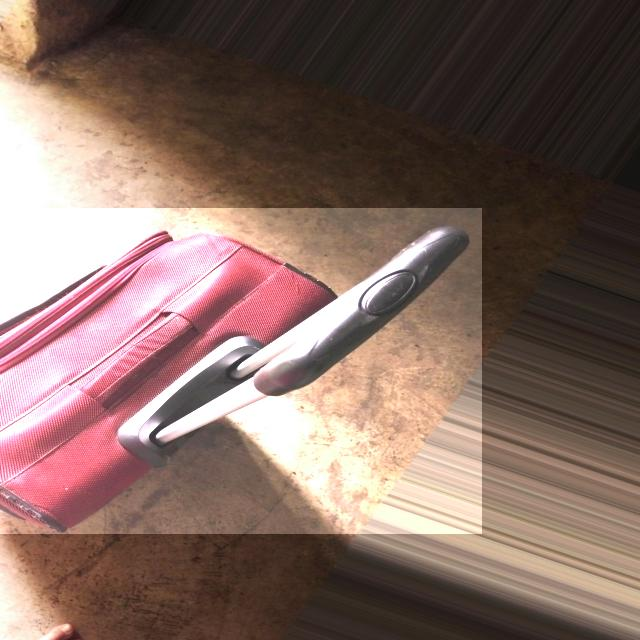Bag: (0, 212, 487, 530)
Handle: (125, 224, 475, 453)
